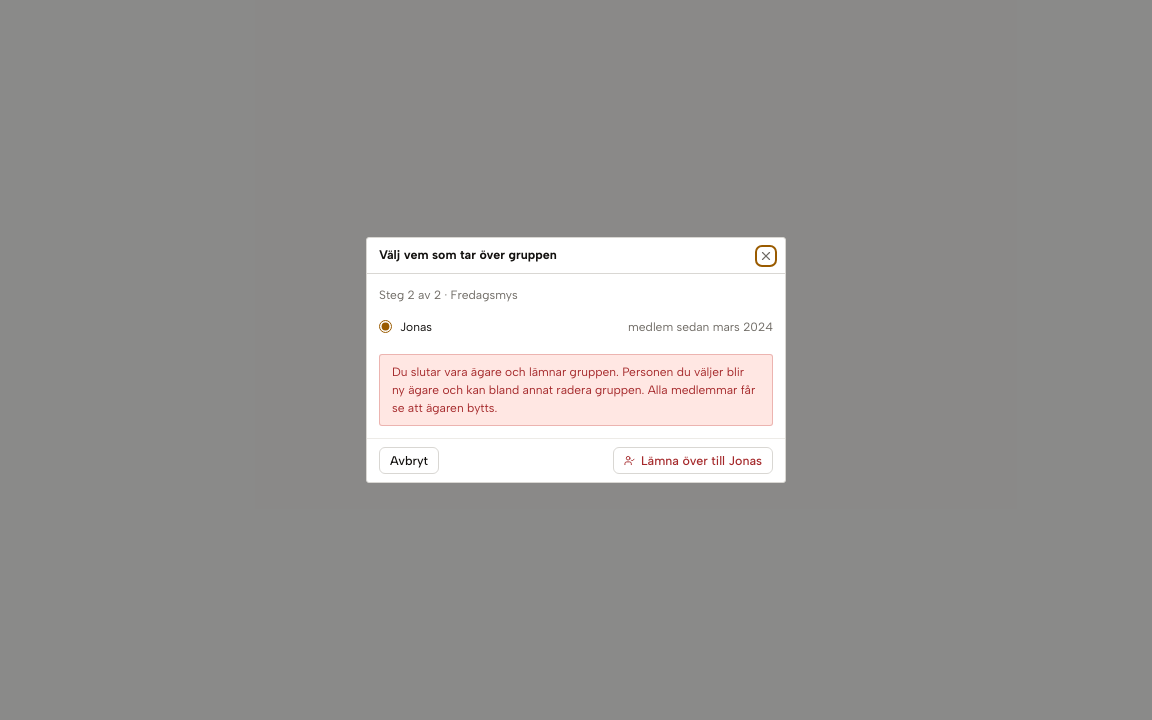
Scenario: HandOverGroupDialog › går att försöka igen efter en vägran
Later steps or results of the test are not shown.
Click the button "Lämna över till Jonas".
click(693, 460)  # box 613,447 -> 773,474
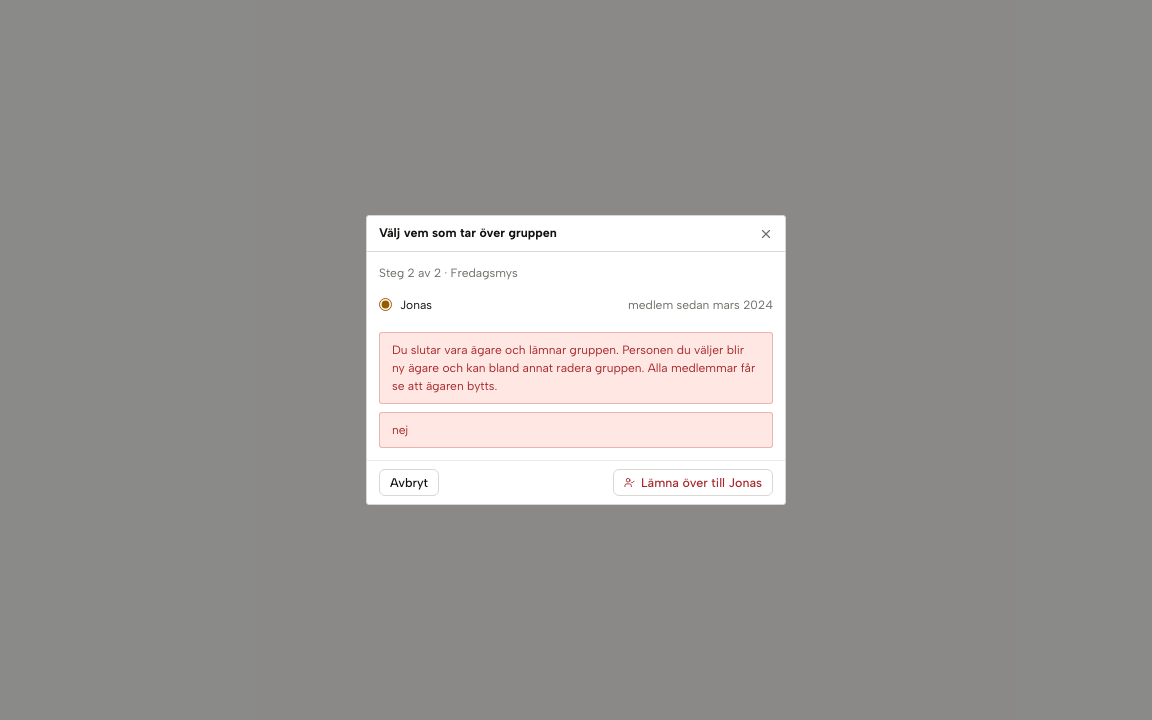
Expected: the text "nej" is shown, 379,412 -> 773,448
